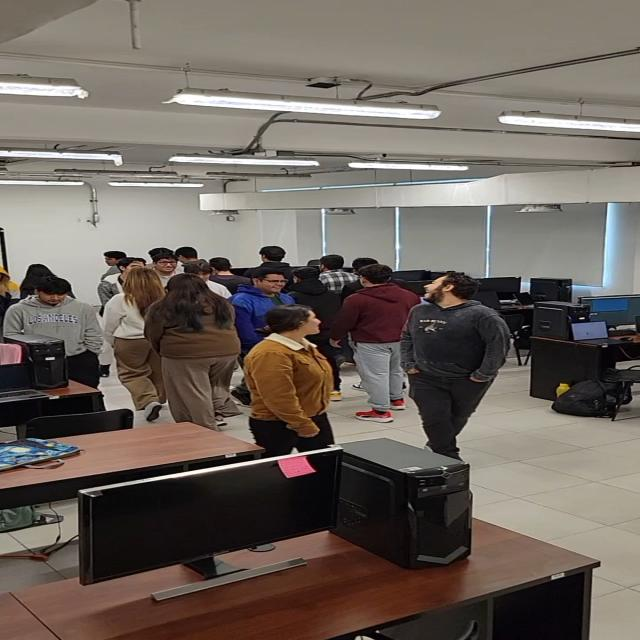Persona: (408, 265, 492, 468), (254, 307, 342, 441), (162, 273, 238, 419), (352, 267, 411, 397), (115, 265, 161, 391), (27, 279, 84, 334), (244, 267, 302, 311), (150, 254, 190, 278)
